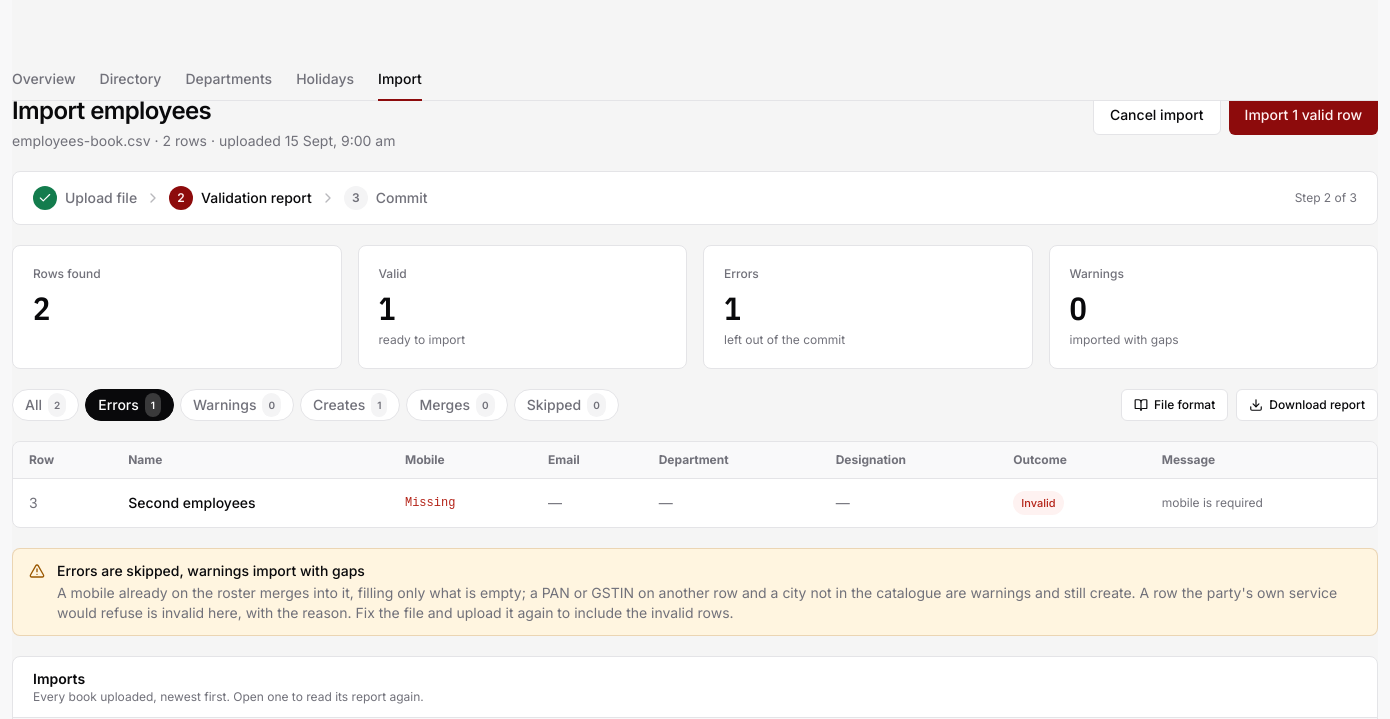
Scenario: the Import tab › employees: with ?id= reads that import under the party and draws its report on the party's grid
Expected: the text "Rows found" is shown, [33,266,101,281]
Expected: the button "Import 1 valid row" is shown, [1229,95,1378,135]
Click the tab "All 2" at (46, 405), box [12,389,79,421]
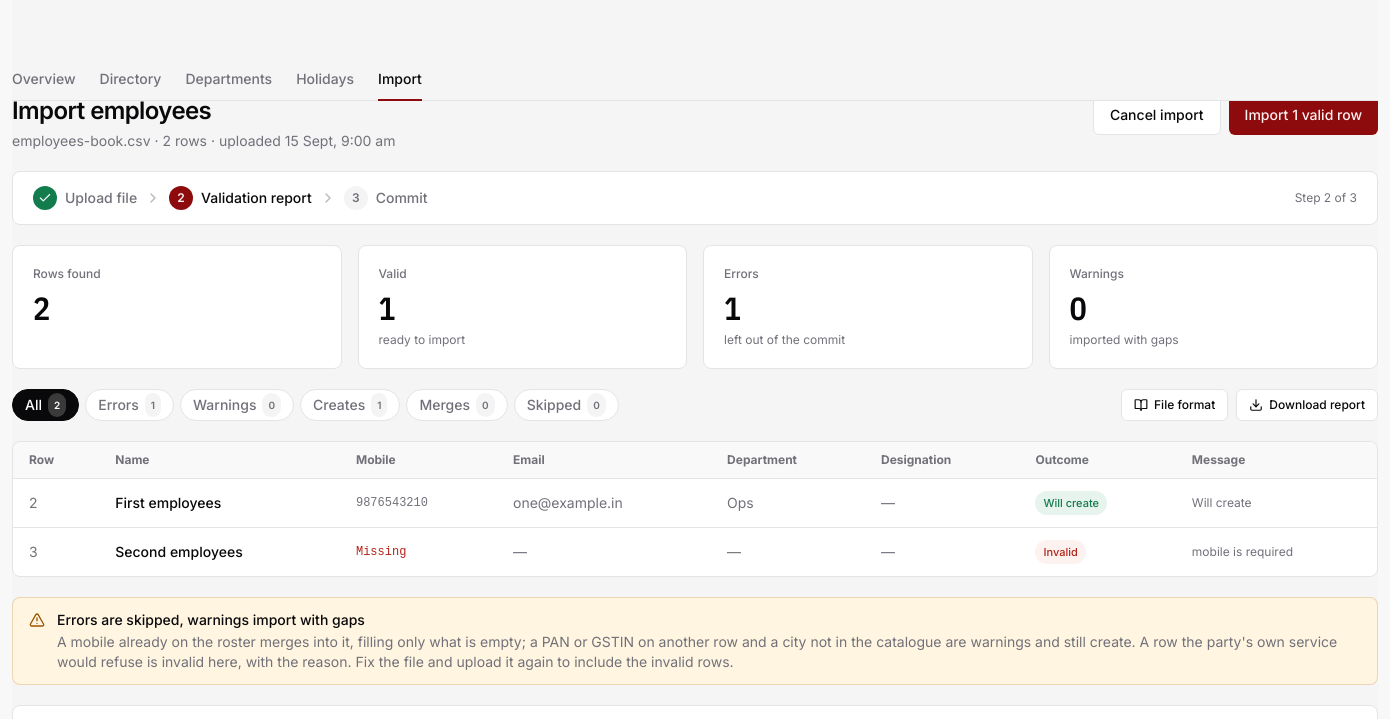
Expected: the text "Ops" is shown, [711,478,865,528]
